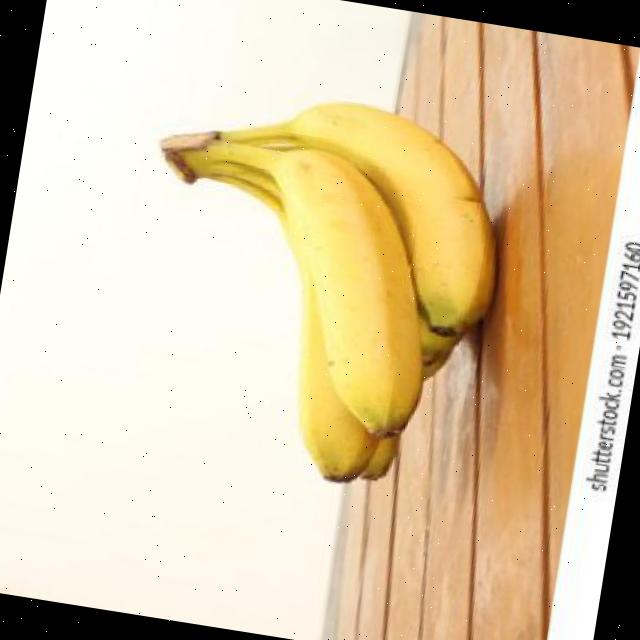banana: (182, 142, 424, 434), (224, 102, 498, 344), (299, 284, 400, 482)
